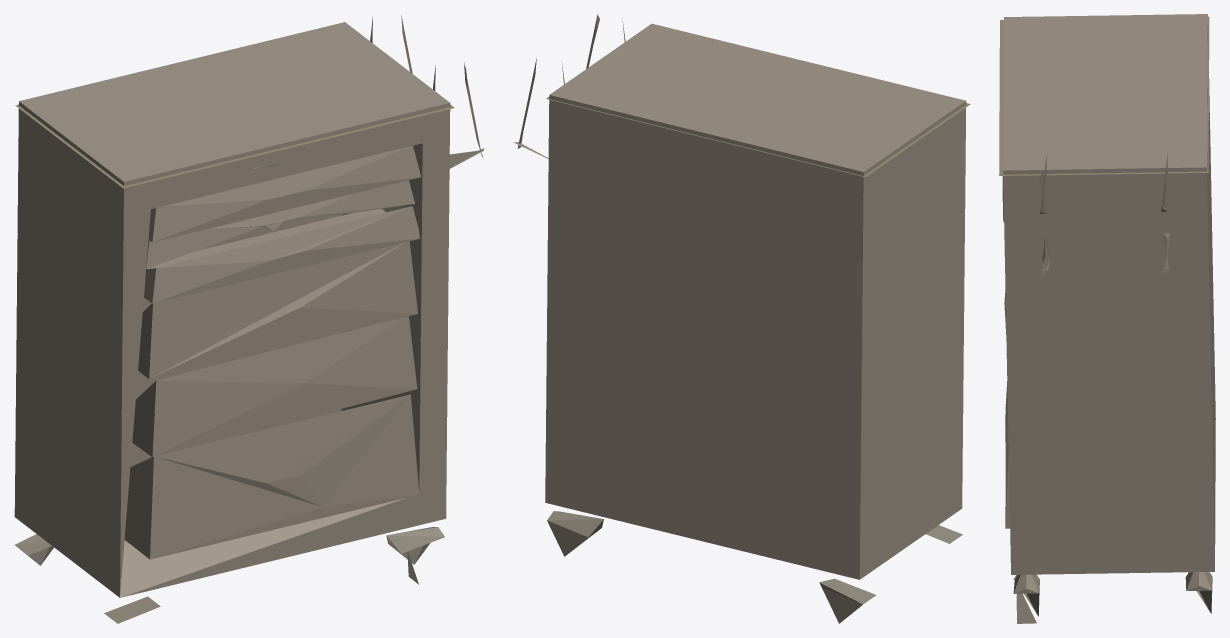
The model's file is rusty-cart.lod2.glb.
3 views of the same model, side by side, from view 1: azimuth 30°, elevation 25°; view 2: azimuth 150°, elevation 25°; view 3: azimuth 270°, elevation 25° (orthographic). The views are drawn at different scales.
Parts seen in each view (by area): view 1: Object_2; view 2: Object_2; view 3: Object_2.
Boxes of the visible parts, bbox=[...] form: Object_2: bbox=[14, 15, 484, 623]; Object_2: bbox=[513, 14, 970, 623]; Object_2: bbox=[999, 14, 1215, 623].
Bounding box in the file's own units: 0.7676 × 0.9591 × 0.3864.
